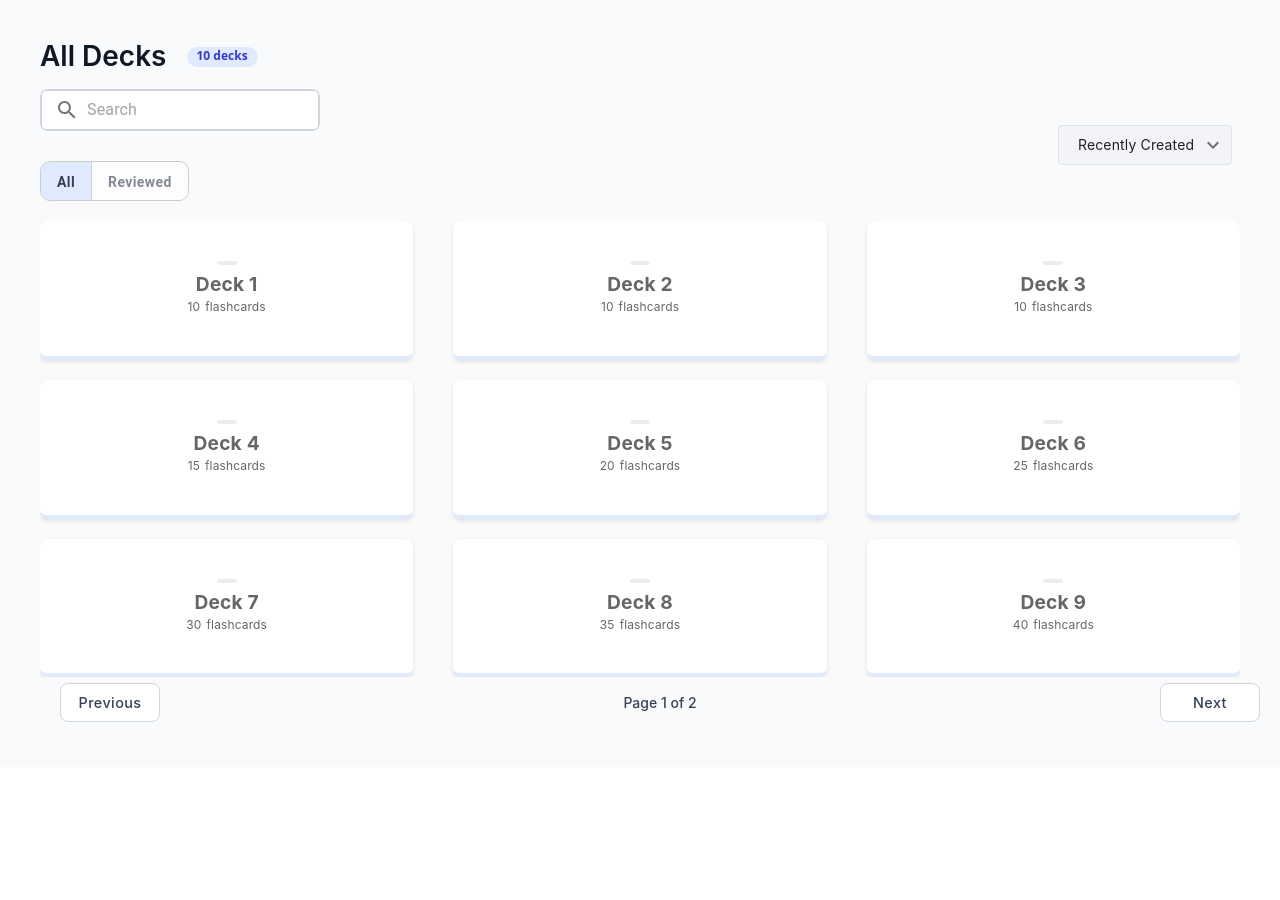
Decks Component › navigates to next page on clicking next button
Click the button "Next": [1210, 702] box [1160, 683, 1260, 722]
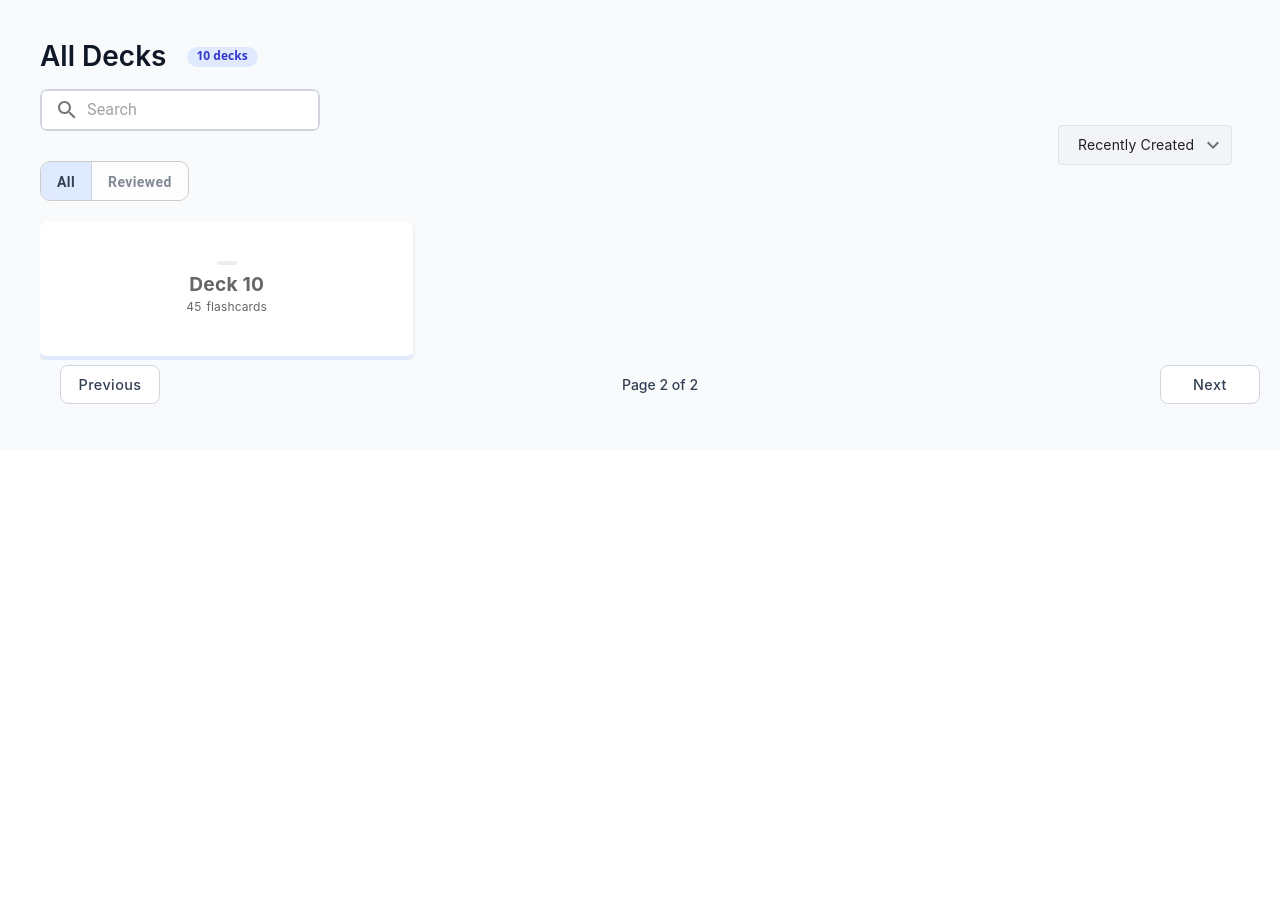
Expected: the text "Page 2 of 2" is shown, [622, 374, 698, 395]
